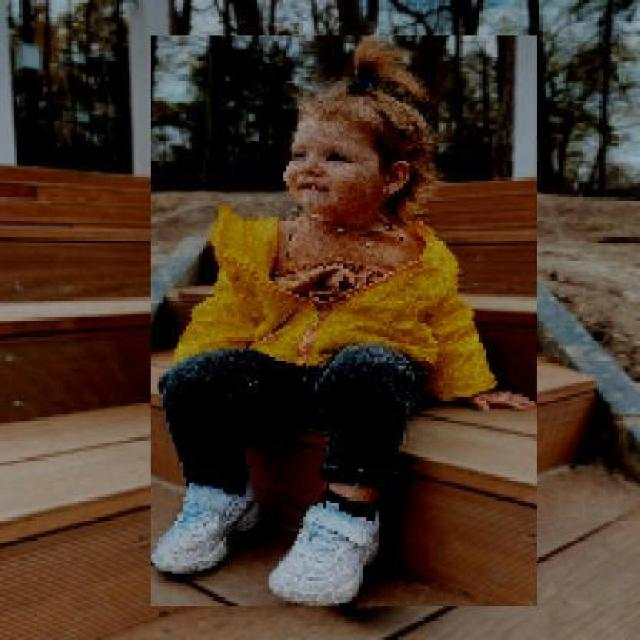child: (149, 35, 537, 608)
